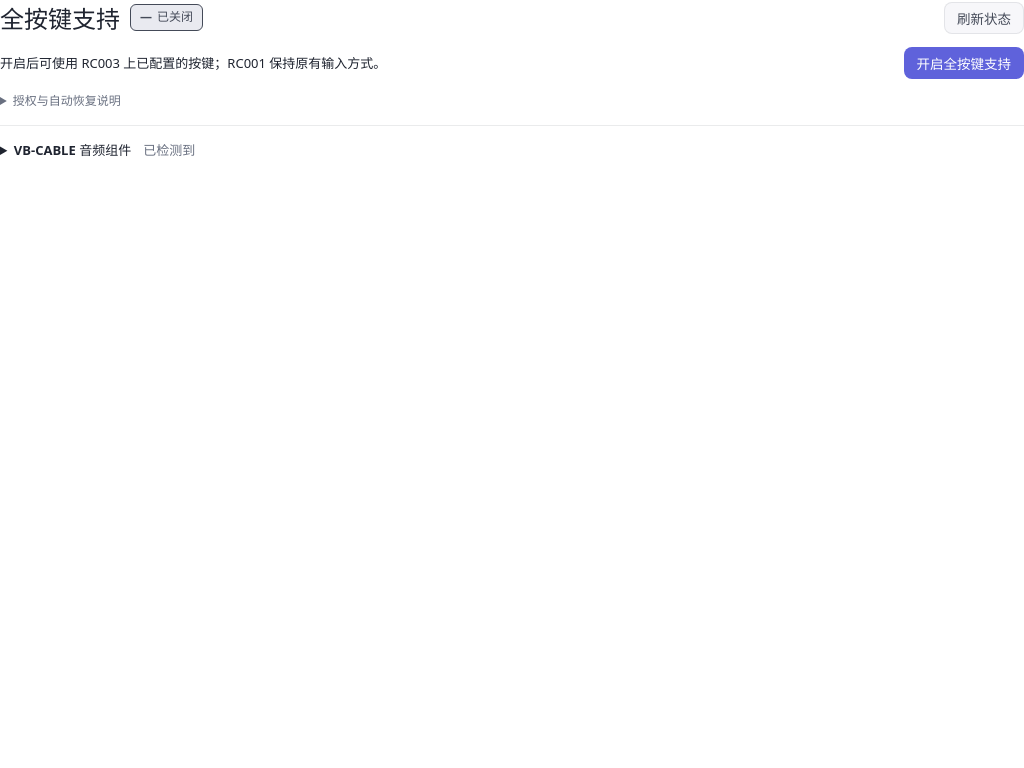
unified button support and audio component › requires explicit confirmation on every enable even with an existing task
Expected: the message "— 已关闭" is shown, left=130, top=4, right=203, bottom=31
Click the button "开启全按键支持": (964, 63) left=904, top=47, right=1023, bottom=79
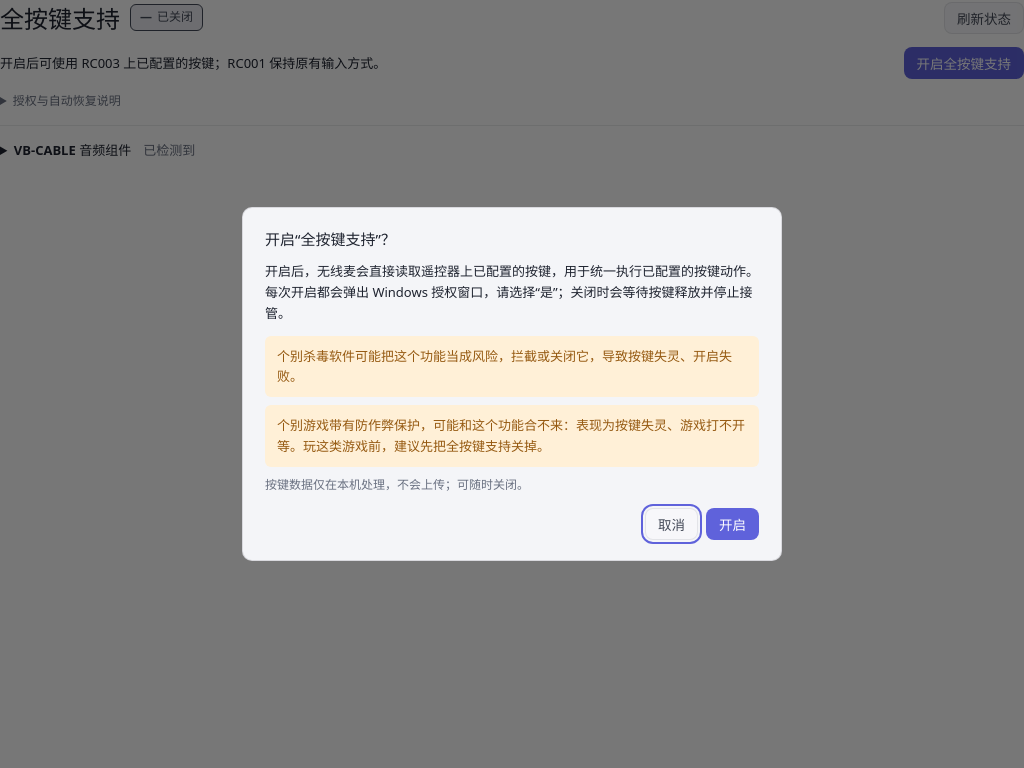
Expected: the dialog is shown, left=242, top=207, right=782, bottom=561
Click the button "取消": (672, 524) left=645, top=508, right=698, bottom=540
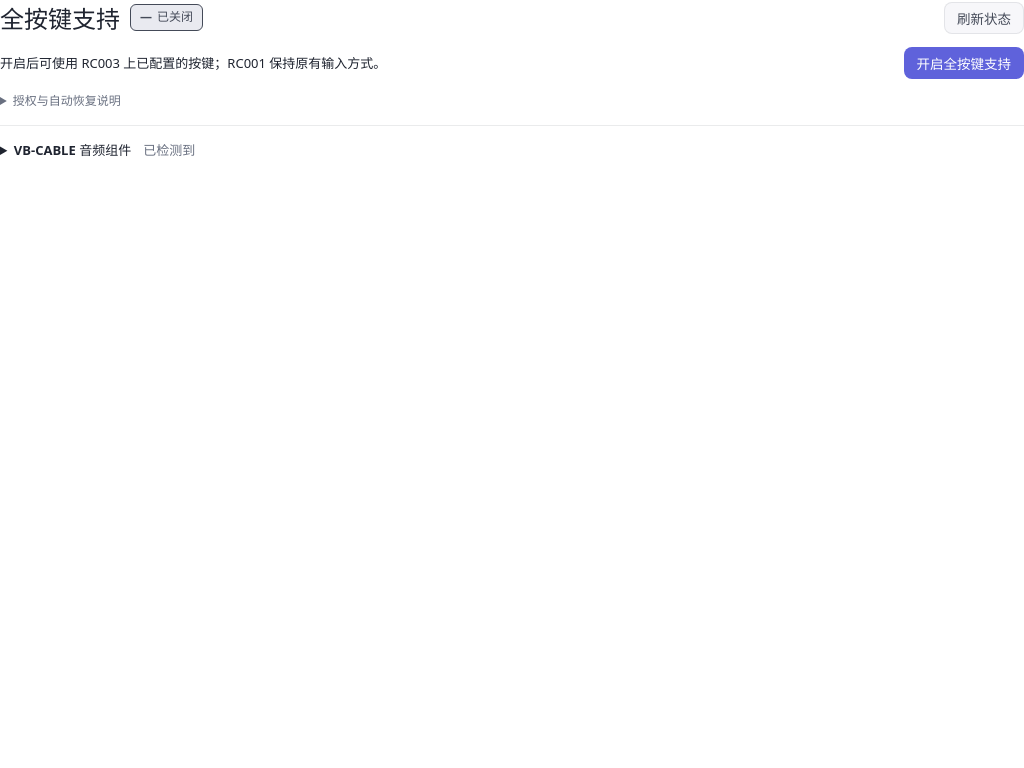
Click the button "开启全按键支持": (964, 63) left=904, top=47, right=1023, bottom=79
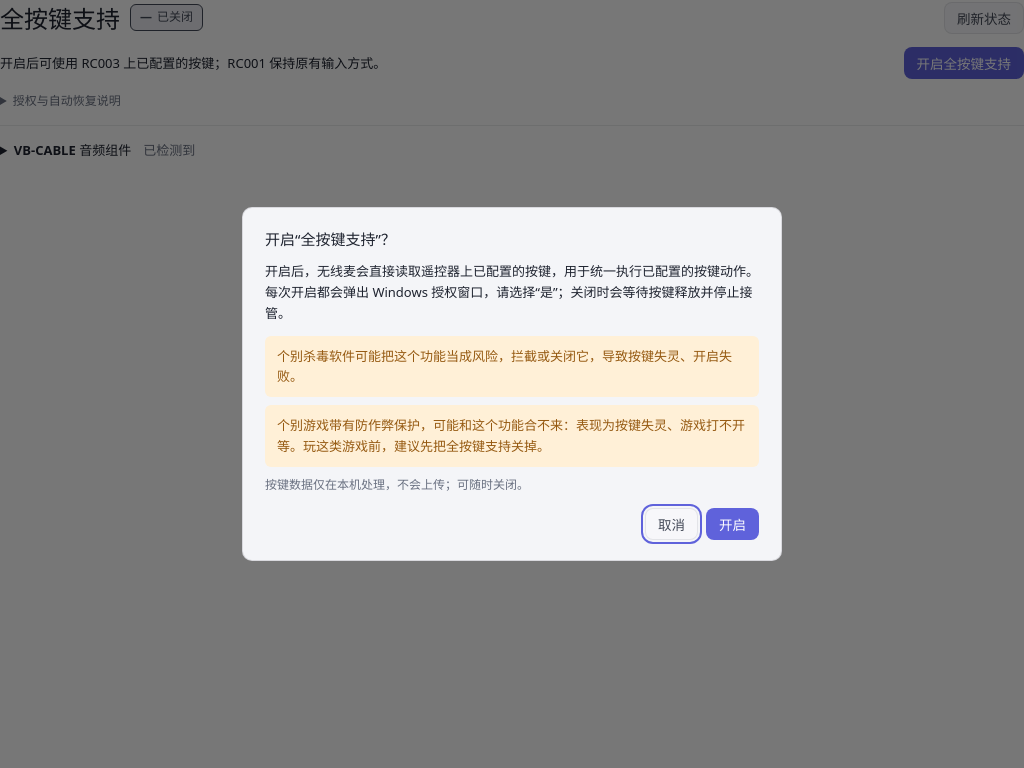
Click the button "开启": (732, 524) left=706, top=508, right=759, bottom=540
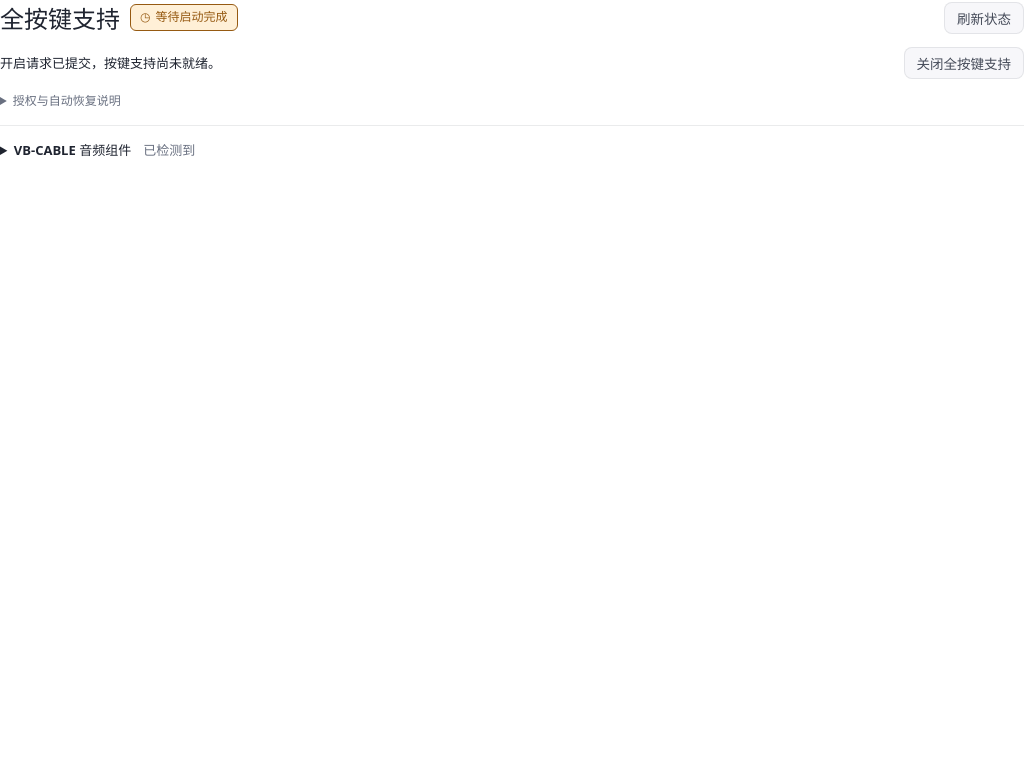
Expected: the message "◷ 等待启动完成" is shown, left=130, top=4, right=238, bottom=31
